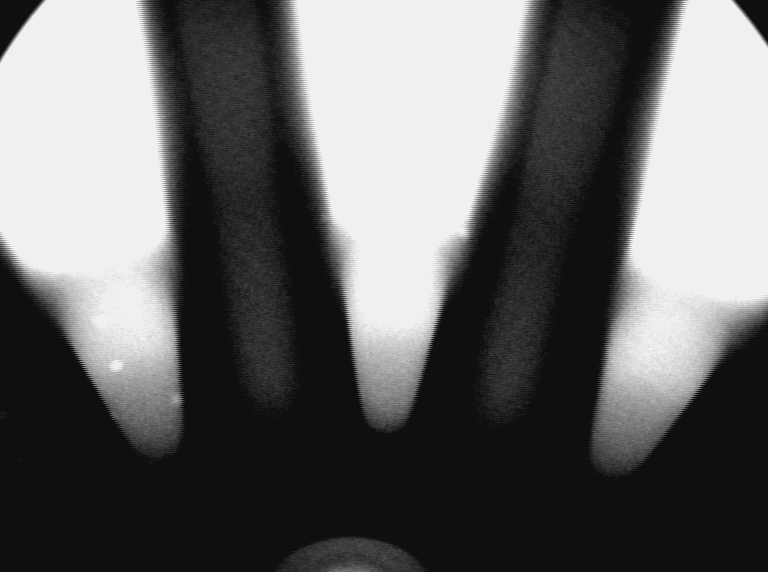defect: (107, 410, 123, 425)
